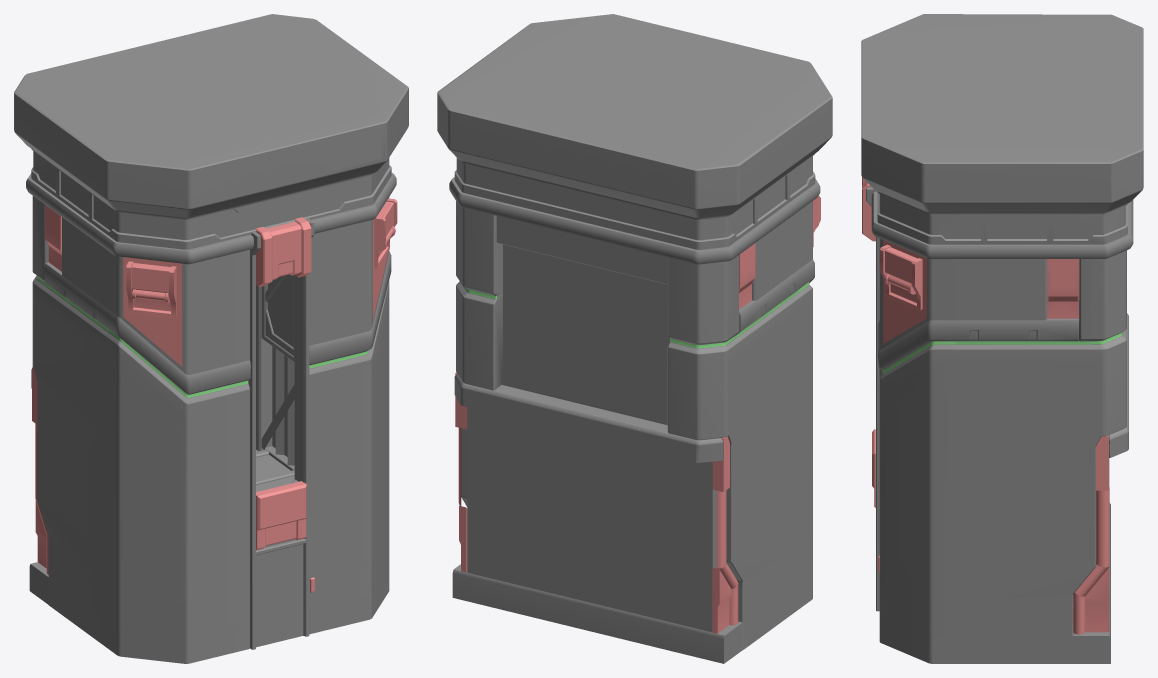
The model's file is S_Envi_FZFBase_Zero_01d.gltf.
The picture shows the model from 3 angles, left to right: view 1: azimuth 30°, elevation 25°; view 2: azimuth 150°, elevation 25°; view 3: azimuth 270°, elevation 25°; orthographic projection.
Parts seen in each view (by area): view 1: S_Envi_FZFBase_Zero_01d; view 2: S_Envi_FZFBase_Zero_01d; view 3: S_Envi_FZFBase_Zero_01d.
Boxes of the visible parts, bbox=[...] form: S_Envi_FZFBase_Zero_01d: bbox=[14, 14, 408, 663]; S_Envi_FZFBase_Zero_01d: bbox=[437, 14, 832, 663]; S_Envi_FZFBase_Zero_01d: bbox=[861, 14, 1143, 663].
Bounding box in the file's own units: 7.86 × 12.48 × 6.28.
